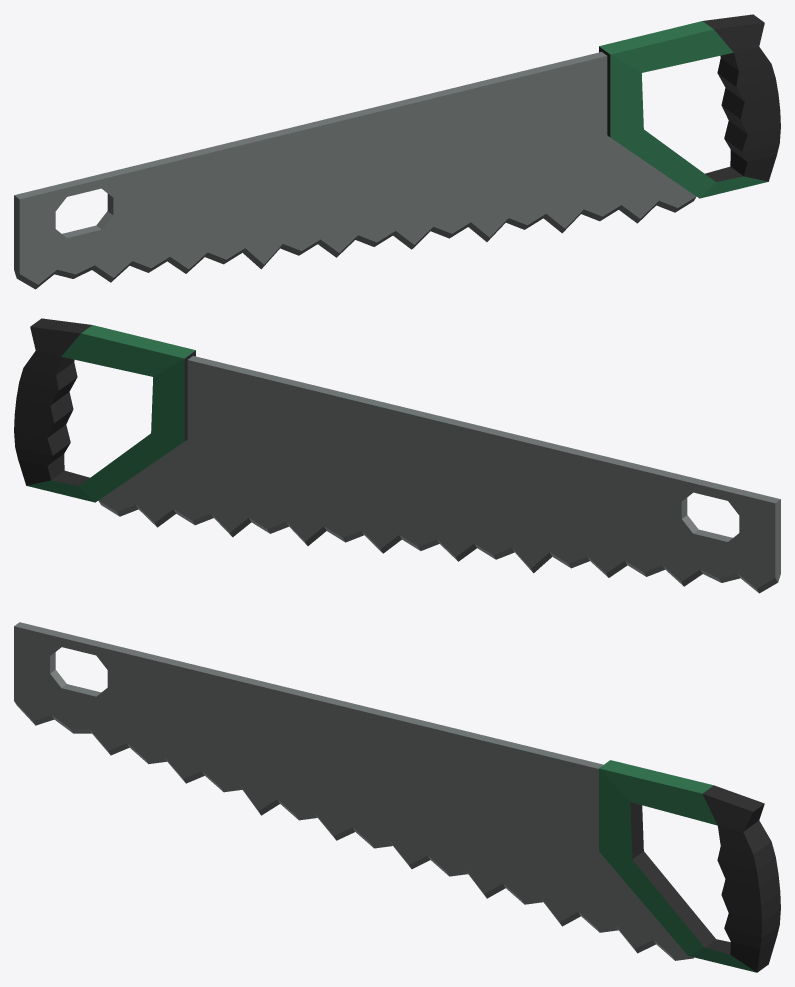
File: SM_Hand_Saw.gltf
3 renders of one model, top to bottom at view 1: azimuth 30°, elevation 25°; view 2: azimuth 150°, elevation 25°; view 3: azimuth 330°, elevation 25°, orthographic.
Parts seen in each view (by area): view 1: SM_Hand_Saw; view 2: SM_Hand_Saw; view 3: SM_Hand_Saw.
Part boxes in pixels (box(x1,y1,x2,y2)): SM_Hand_Saw: box(14, 14, 780, 289); SM_Hand_Saw: box(14, 318, 780, 593); SM_Hand_Saw: box(14, 622, 780, 972).
Size of the model in its own units: 0.7367 by 0.1691 by 0.0325.
Materials: 1 (1 with a texture image).
